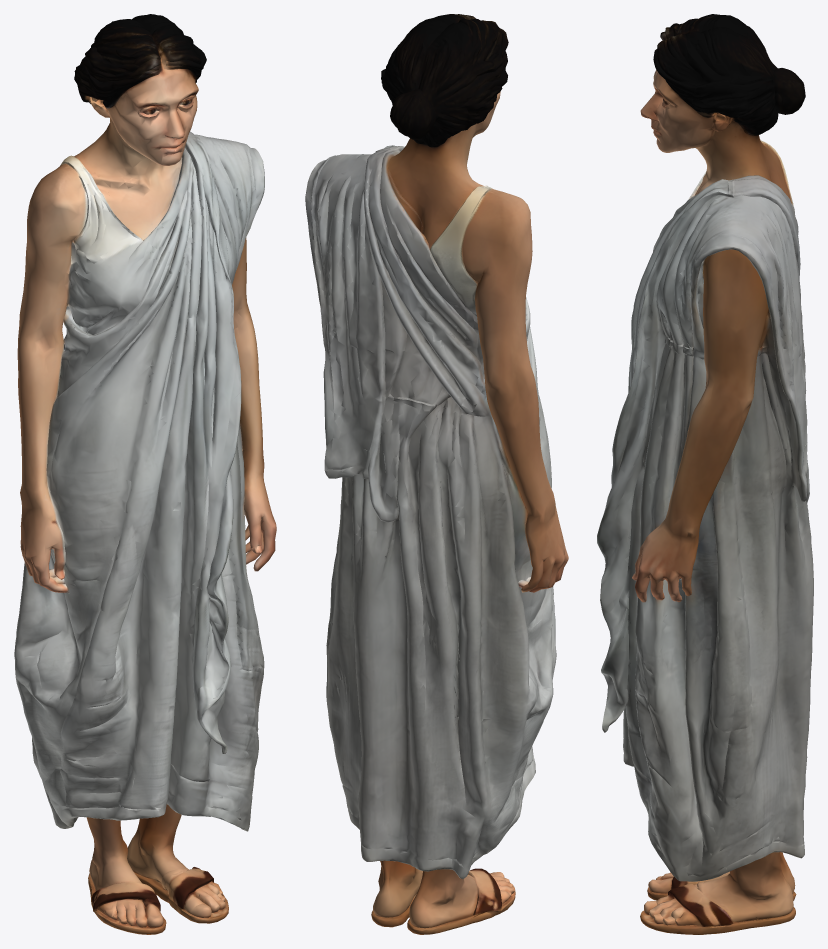
Rendered from crowd_washwoman_rodin_source.glb.
3 views of the same model, side by side, from view 1: azimuth 30°, elevation 25°; view 2: azimuth 150°, elevation 25°; view 3: azimuth 270°, elevation 25° (orthographic).
Visible parts, largest first — view 1: model; view 2: model; view 3: model.
Boxes of the visible parts, x1,y1,x2,y2 form: model: [14, 14, 276, 934]; model: [305, 14, 568, 934]; model: [597, 14, 813, 934].
Bounding box in the file's own units: 0.5359 × 1.9 × 0.4233.
1 material, 1 textured.
